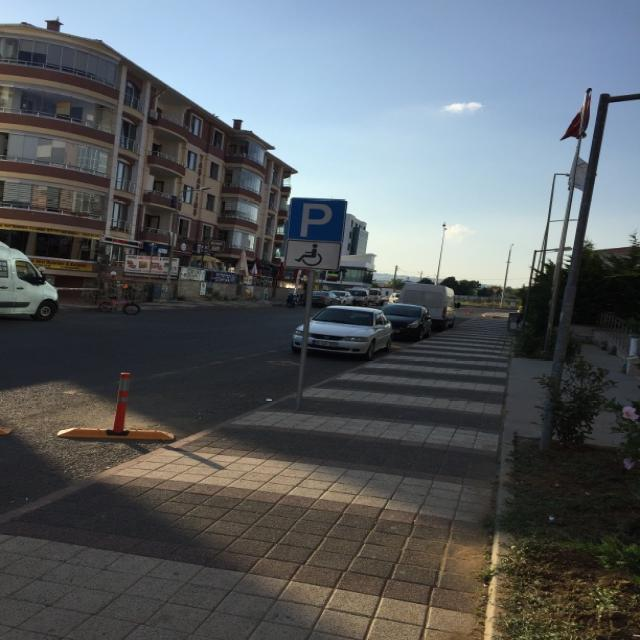park: (287, 198, 346, 242)
